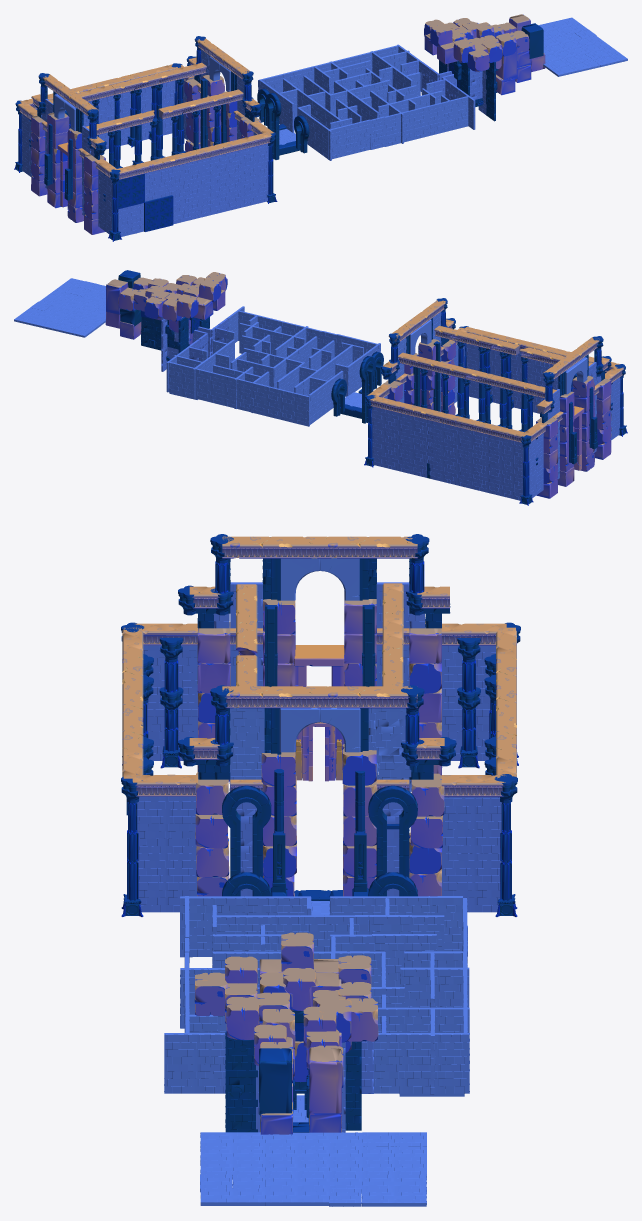
File: SM_L5_mi_gong.glb
3 views of the same model, one above another, from view 1: azimuth 30°, elevation 25°; view 2: azimuth 150°, elevation 25°; view 3: azimuth 270°, elevation 25° (orthographic). The views are drawn at different scales.
Parts seen in each view (by area): view 1: TFD_Wall_06A_LOD0_124, TFD_Wall_06A_LOD0_58, TFD_Wall_06A_LOD0_142, TFD_Wall_06A_LOD0_118, TFD_Wall_06A_LOD0_28, TFD_Wall_06A_LOD0_142.001, TFD_Wall_06A_LOD0_143, TFD_Wall_06A_LOD0_118.001, TFD_Wall_06A_LOD0_118.002, TFD_Wall_06A_LOD0_142.002, TFD_Building_Block_04A_LOD0_139.001, TFD_Wall_08A_LOD0_15.001 (+23 smaller); view 2: TFD_Wall_06A_LOD0_22, TFD_Wall_06A_LOD0_123.001, TFD_Wall_06A_LOD0_22.003, TFD_Wall_06A_LOD0_123.004, TFD_Wall_06A_LOD0_123.003, TFD_Wall_06A_LOD0_123, TFD_Wall_06A_LOD0_22.001, TFD_Wall_06A_LOD0_22.004, TFD_Wall_06A_LOD0_123.002, TFD_Wall_06A_LOD0_123.005, TFD_Wall_06A_LOD0_22.005, TFD_Wall_06A_LOD0_22.002 (+23 smaller); view 3: TFD_Wall_06A_LOD0_90, TFD_Wall_06A_LOD0_76.001, TFD_Wall_06A_LOD0_67, TFD_Wall_06A_LOD0_76, TFD_Wall_08A_LOD0_15.001, TFD_Beam_11A_LOD0_7.002, TFD_Building_Block_04A_LOD0_139, TFD_Beam_11A_LOD0_7.003, TFD_Building_Block_04A_LOD0_139.001, TFD_Beam_11A_LOD0_7, TFD_Gate_01A_Module_04_LOD0_2, TFD_Gate_01A_Module_04_LOD0 (+42 smaller).
Boxes of the visible parts, bbox=[...] form: TFD_Wall_06A_LOD0_124: bbox=[214, 178, 242, 213]; TFD_Wall_06A_LOD0_58: bbox=[214, 150, 242, 184]; TFD_Wall_06A_LOD0_142: bbox=[242, 172, 268, 207]; TFD_Wall_06A_LOD0_118: bbox=[242, 143, 268, 177]; TFD_Wall_06A_LOD0_28: bbox=[145, 167, 172, 201]; TFD_Wall_06A_LOD0_142.001: bbox=[187, 185, 214, 218]; TFD_Wall_06A_LOD0_143: bbox=[118, 203, 143, 236]; TFD_Wall_06A_LOD0_118.001: bbox=[187, 156, 214, 189]; TFD_Wall_06A_LOD0_118.002: bbox=[169, 161, 196, 195]; TFD_Wall_06A_LOD0_142.002: bbox=[172, 190, 196, 224]; TFD_Building_Block_04A_LOD0_139.001: bbox=[521, 23, 543, 58]; TFD_Wall_08A_LOD0_15.001: bbox=[486, 62, 495, 121]; TFD_Wall_06A_LOD0_22: bbox=[398, 441, 426, 477]; TFD_Wall_06A_LOD0_123.001: bbox=[429, 449, 457, 485]; TFD_Wall_06A_LOD0_22.003: bbox=[398, 413, 426, 448]; TFD_Wall_06A_LOD0_123.004: bbox=[429, 421, 457, 456]; TFD_Wall_06A_LOD0_123.003: bbox=[371, 407, 398, 441]; TFD_Wall_06A_LOD0_123: bbox=[372, 435, 398, 470]; TFD_Wall_06A_LOD0_22.001: bbox=[457, 456, 485, 491]; TFD_Wall_06A_LOD0_22.004: bbox=[457, 427, 485, 461]; TFD_Wall_06A_LOD0_123.002: bbox=[475, 460, 502, 496]; TFD_Wall_06A_LOD0_123.005: bbox=[475, 432, 502, 467]; TFD_Wall_06A_LOD0_22.005: bbox=[502, 438, 523, 472]; TFD_Wall_06A_LOD0_22.002: bbox=[502, 467, 523, 500]; TFD_Wall_06A_LOD0_90: bbox=[136, 796, 196, 853]; TFD_Wall_06A_LOD0_76.001: bbox=[442, 797, 501, 853]; TFD_Wall_06A_LOD0_67: bbox=[137, 853, 196, 912]; TFD_Wall_06A_LOD0_76: bbox=[442, 853, 501, 912]; TFD_Wall_08A_LOD0_15.001: bbox=[225, 1031, 257, 1132]; TFD_Beam_11A_LOD0_7.002: bbox=[222, 536, 319, 558]; TFD_Building_Block_04A_LOD0_139: bbox=[309, 1048, 341, 1115]; TFD_Beam_11A_LOD0_7.003: bbox=[320, 536, 417, 558]; TFD_Building_Block_04A_LOD0_139.001: bbox=[259, 1048, 291, 1115]; TFD_Beam_11A_LOD0_7: bbox=[222, 686, 319, 708]; TFD_Gate_01A_Module_04_LOD0_2: bbox=[222, 785, 271, 856]; TFD_Gate_01A_Module_04_LOD0: bbox=[368, 785, 417, 856].
Size of what is drawn, in the model's own units: 154 by 32.37 by 49.2.
5 materials, 5 textured.
